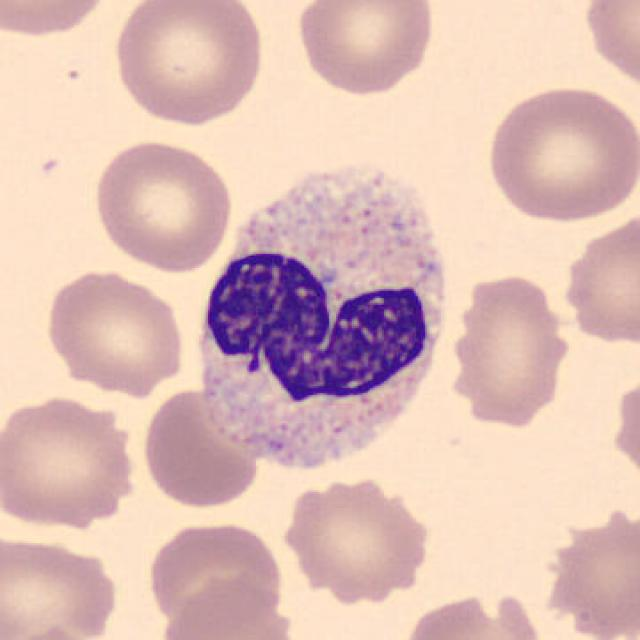Neutrophil: (187, 154, 460, 488)
RBC: (480, 79, 638, 226), (441, 268, 574, 430), (274, 471, 437, 603), (108, 0, 266, 129), (0, 392, 144, 532), (89, 136, 236, 273), (41, 266, 188, 397), (142, 515, 288, 633), (139, 381, 265, 511), (531, 497, 640, 640), (292, 0, 439, 99), (0, 532, 123, 640), (558, 204, 640, 351), (150, 578, 302, 640), (396, 589, 550, 640), (578, 0, 640, 97), (2, 0, 114, 41), (610, 372, 638, 490)
